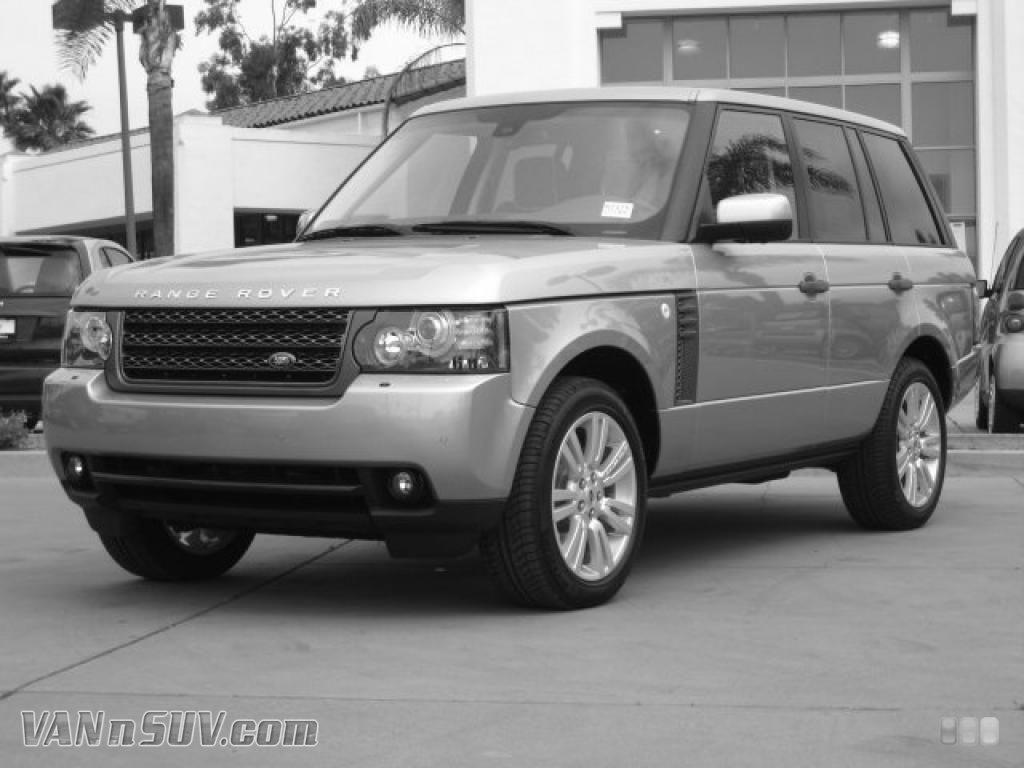car: (36, 78, 999, 615)
